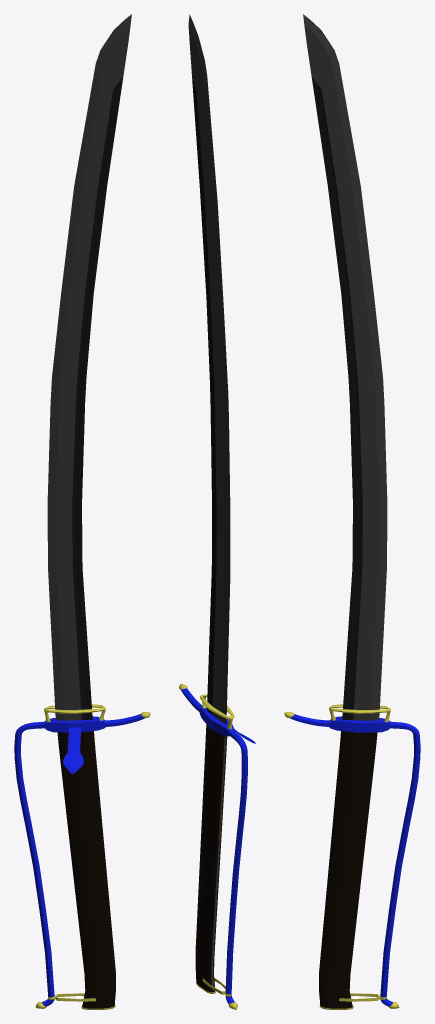
3 views of the same model, side by side, from view 1: azimuth 90°, elevation 25°; view 2: azimuth 210°, elevation 25°; view 3: azimuth 270°, elevation 25° (orthographic). The views are drawn at different scales.
Parts seen in each view (by area): view 1: Box028 (×2), Cylinder008, Box029 (×2); view 2: Box028 (×2), Cylinder008 (×2), Box029 (×2); view 3: Box028 (×2), Cylinder008, Box029 (×2).
Boxes of the visible parts, box(x1,y1,x2,y2) form: Box028 (×2): box(47, 14, 131, 720); Cylinder008: box(57, 731, 115, 1008); Box029 (×2): box(14, 704, 150, 1008); Box028 (×2): box(188, 14, 230, 724); Cylinder008 (×2): box(195, 724, 227, 992); Box029 (×2): box(179, 683, 255, 1009); Box028 (×2): box(303, 14, 387, 720); Cylinder008: box(319, 731, 377, 1008); Box029 (×2): box(284, 704, 420, 1008).
Size of the model in its own units: 0.1 by 2 by 0.2482.
